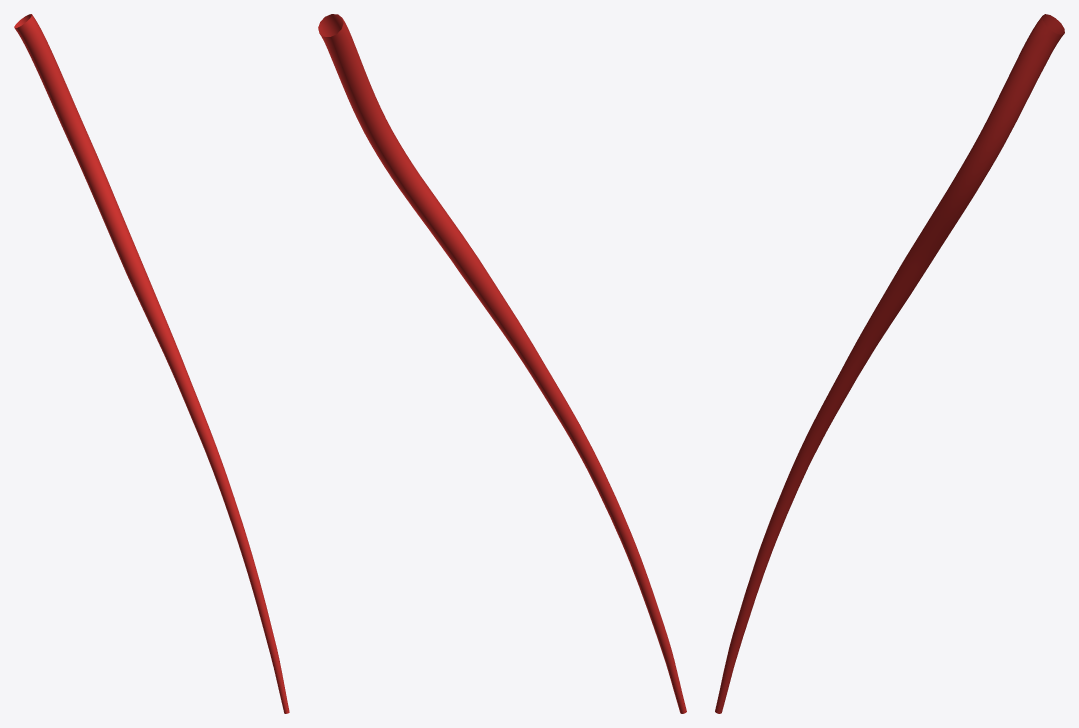
Rendered from circulatorio-pectoral-branches-of-thoraco-acromial-artery-r.glb.
3 renders of one model, left to right at view 1: azimuth 90°, elevation 25°; view 2: azimuth 150°, elevation 25°; view 3: azimuth 270°, elevation 25°, orthographic. The views are drawn at different scales.
Visible parts, largest first — view 1: Pectoral branches of thoraco-acromial artery.r; view 2: Pectoral branches of thoraco-acromial artery.r; view 3: Pectoral branches of thoraco-acromial artery.r.
Boxes of the visible parts, x1=… form: Pectoral branches of thoraco-acromial artery.r: x1=14, y1=14, x2=289, y2=713; Pectoral branches of thoraco-acromial artery.r: x1=318, y1=14, x2=686, y2=713; Pectoral branches of thoraco-acromial artery.r: x1=715, y1=14, x2=1064, y2=713.
Bounding box in the file's own units: 0.034 × 0.1218 × 0.0488.
